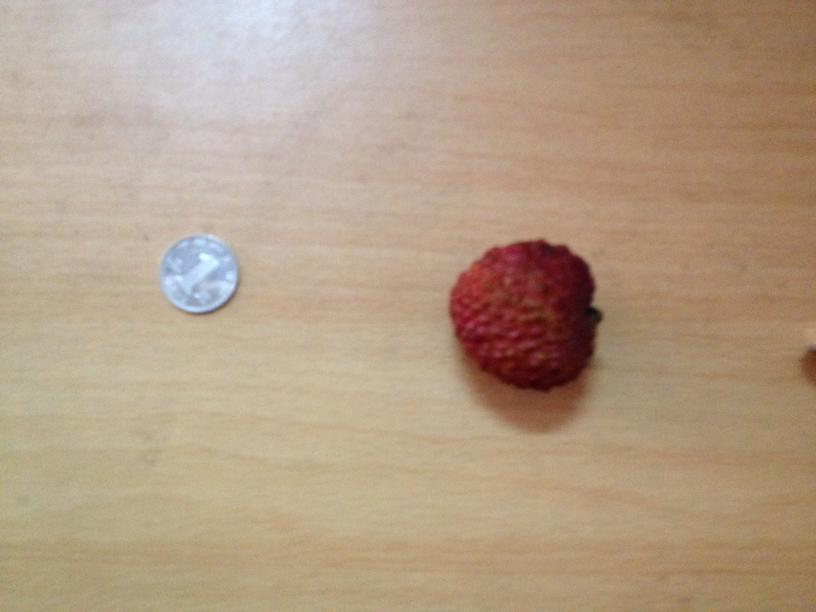coin: (160, 235, 236, 315)
litchi: (450, 239, 595, 389)
